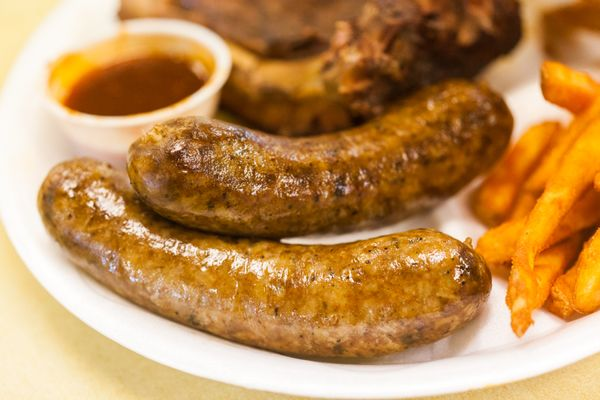sushi: (32, 16, 232, 162)
